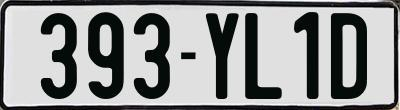1: (292, 9, 320, 102)
3: (39, 13, 76, 105), (133, 11, 169, 103)
9: (85, 10, 121, 102)
D: (329, 13, 368, 101)
L: (245, 11, 286, 102)
Y: (203, 13, 239, 104)
